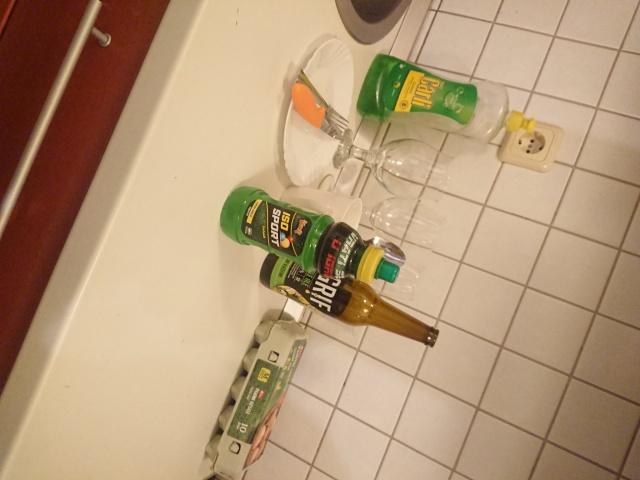Vindi Iso Sport Lemon-Grapefruit 500mL: (217, 184, 402, 286)
